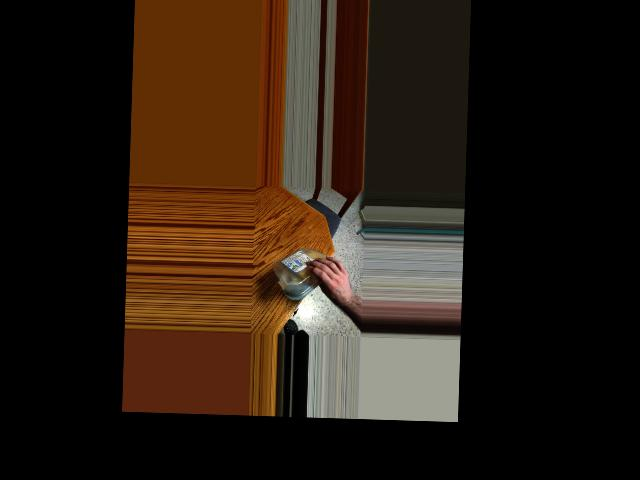cheese: (271, 245, 339, 298)
